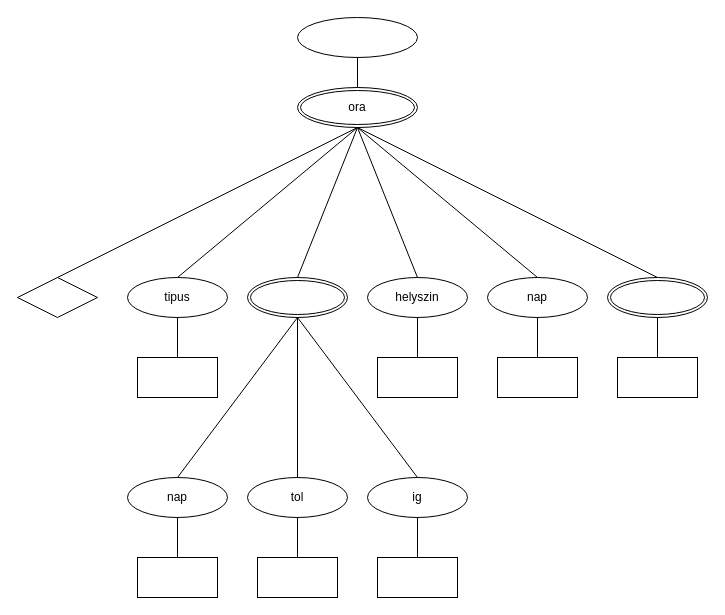
The diagram is 725 pixels wide and 615 high, and some of its shapes have lost their labels. Here are the shapes that lost their labels. From the top down, the centre of each, then its label:
the point at 357,37: BQLOTW_orarend
the point at 57,297: id
the point at 297,297: idopont
the point at 657,297: oktato
